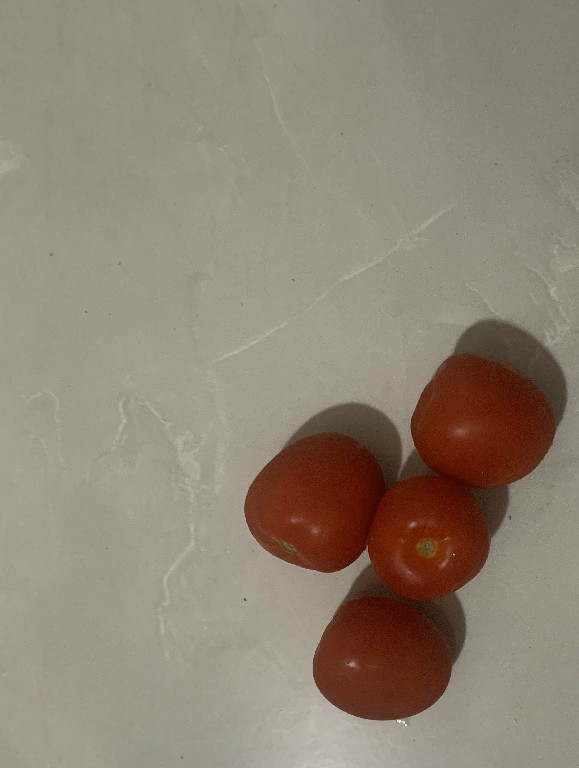OK: (412, 341, 560, 491), (239, 425, 384, 578), (311, 595, 453, 722), (375, 473, 500, 598)
